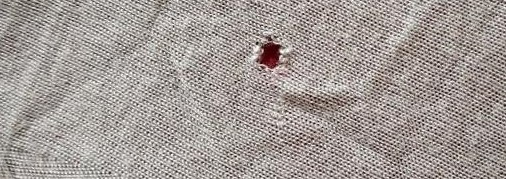hole: (248, 33, 293, 72)
